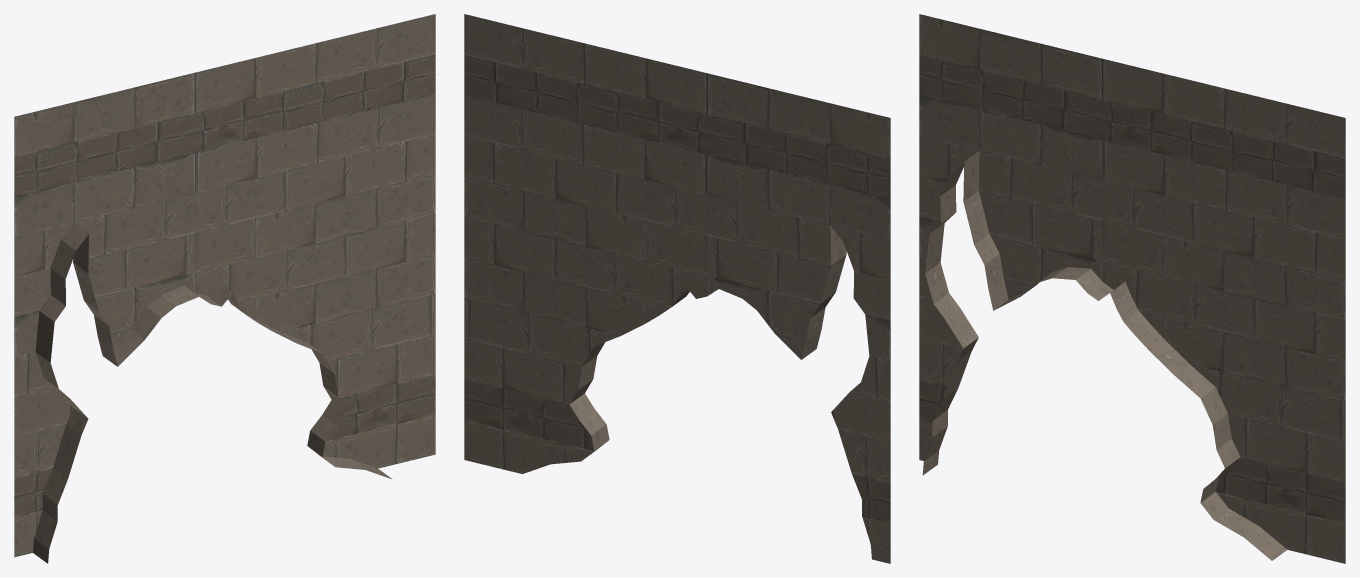
File: Ruins_BaseWall_Broken_04a.fbx
3 renders of one model, left to right at view 1: azimuth 30°, elevation 25°; view 2: azimuth 150°, elevation 25°; view 3: azimuth 330°, elevation 25°, orthographic.
Visible parts, largest first — view 1: Ruins_BaseWall_Broken_04a; view 2: Ruins_BaseWall_Broken_04a; view 3: Ruins_BaseWall_Broken_04a.
Boxes of the visible parts, <box> form: Ruins_BaseWall_Broken_04a: <box>14,14,435,563</box>; Ruins_BaseWall_Broken_04a: <box>464,14,890,563</box>; Ruins_BaseWall_Broken_04a: <box>919,14,1345,563</box>.
Size of the model in its own units: 8 by 8 by 0.5.
Materials: 1 (1 with a texture image).
